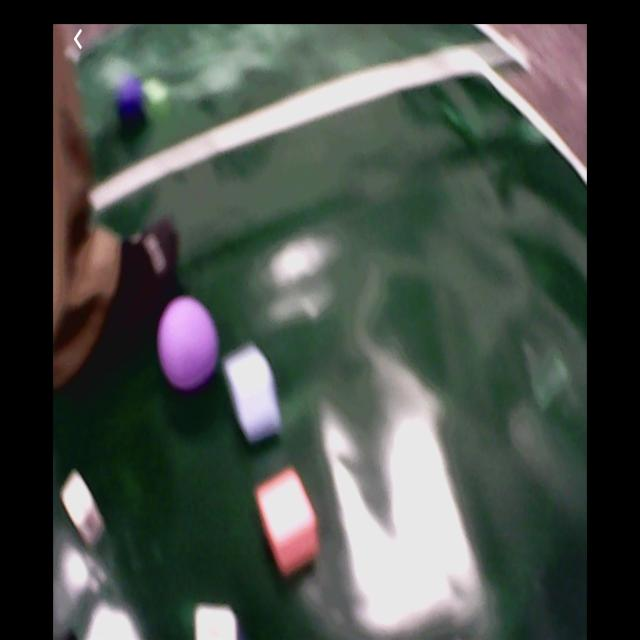ball: (157, 299, 216, 386), (112, 78, 147, 128)
